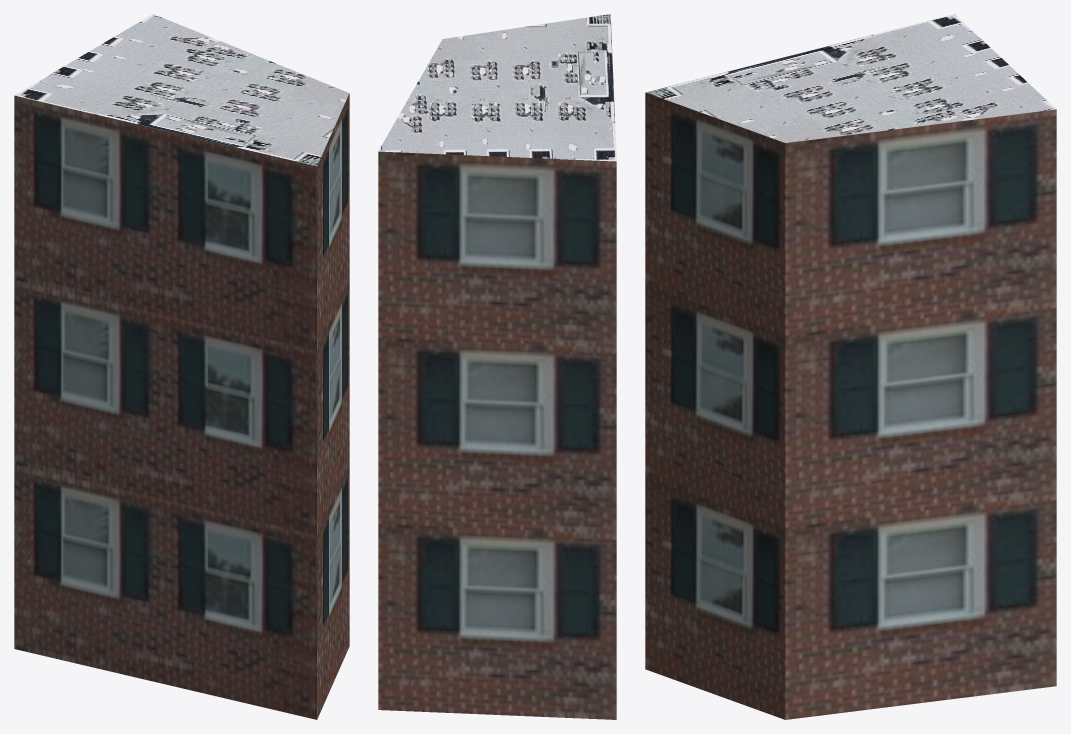
The model's file is ResTex__1727.fbx.
The picture shows the model from 3 angles, left to right: view 1: azimuth 30°, elevation 25°; view 2: azimuth 150°, elevation 25°; view 3: azimuth 270°, elevation 25°; orthographic projection. The views are drawn at different scales.
Visible parts, largest first — view 1: CityEngineMaterial_14_m, CityEngineMaterial_4_m; view 2: CityEngineMaterial_14_m, CityEngineMaterial_4_m; view 3: CityEngineMaterial_14_m, CityEngineMaterial_4_m.
Boxes of the visible parts, bbox=[...] form: CityEngineMaterial_14_m: bbox=[14, 93, 349, 719]; CityEngineMaterial_4_m: bbox=[15, 14, 349, 166]; CityEngineMaterial_14_m: bbox=[378, 151, 616, 719]; CityEngineMaterial_4_m: bbox=[378, 14, 616, 161]; CityEngineMaterial_14_m: bbox=[645, 92, 1056, 719]; CityEngineMaterial_4_m: bbox=[645, 14, 1055, 142].
Size of the model in its own units: 4.32 by 9 by 5.82.
Materials: 2 (2 with a texture image).
